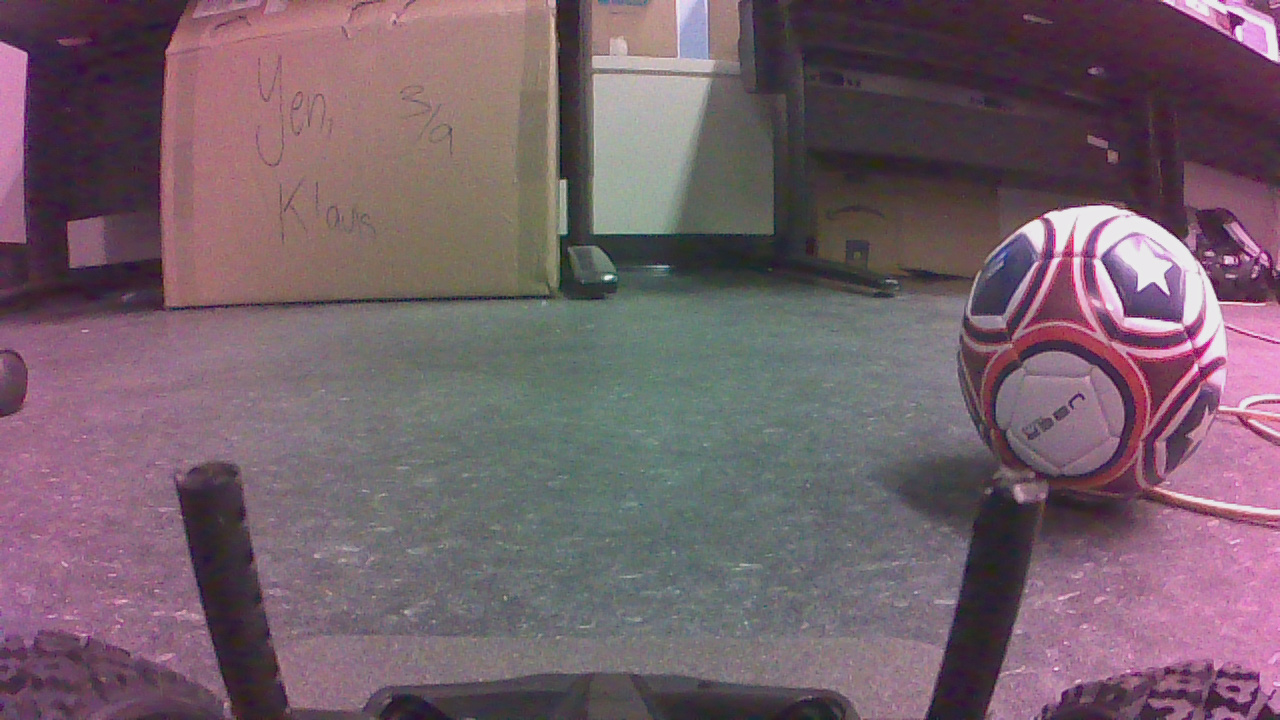ball: (961, 205, 1237, 513)
